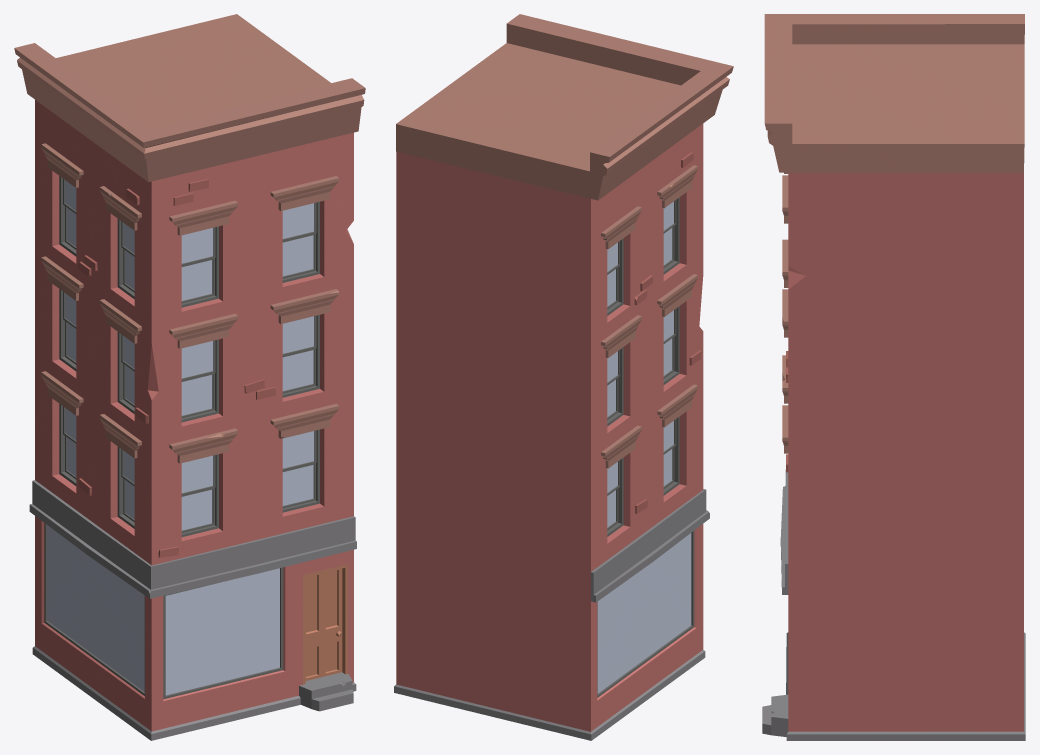
The model's file is pp-redcorner.glb.
3 views of the same model, side by side, from view 1: azimuth 30°, elevation 25°; view 2: azimuth 150°, elevation 25°; view 3: azimuth 270°, elevation 25° (orthographic). The views are drawn at different scales.
Visible parts, largest first — view 1: BuildingCornerRed; view 2: BuildingCornerRed; view 3: BuildingCornerRed.
Boxes of the visible parts, x1,y1,x2,y2 form: BuildingCornerRed: [14, 14, 365, 740]; BuildingCornerRed: [394, 14, 733, 740]; BuildingCornerRed: [762, 14, 1025, 740].
Size of the model in its own units: 1.33 by 3.47 by 1.34.
Materials: 3 (3 with a texture image).
